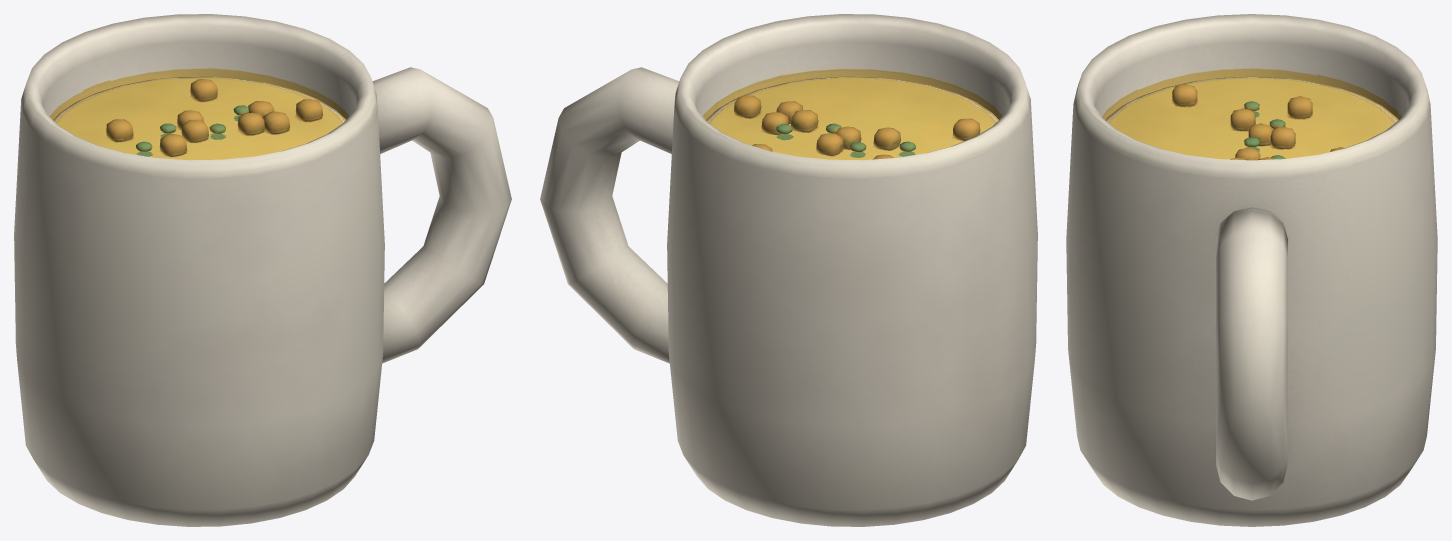
File: mug_corn.glb
The picture shows the model from 3 angles, left to right: view 1: azimuth 30°, elevation 25°; view 2: azimuth 150°, elevation 25°; view 3: azimuth 270°, elevation 25°; orthographic projection.
Visible parts, largest first — view 1: prop_mug_corn_felt; view 2: prop_mug_corn_felt; view 3: prop_mug_corn_felt.
Boxes of the visible parts, box(x1,y1,x2,y2) form: prop_mug_corn_felt: box(14, 14, 511, 526); prop_mug_corn_felt: box(540, 14, 1037, 526); prop_mug_corn_felt: box(1066, 14, 1437, 526).
Size of the model in its own units: 0.1907 by 0.1447 by 0.131.
Materials: 1 (1 with a texture image).
